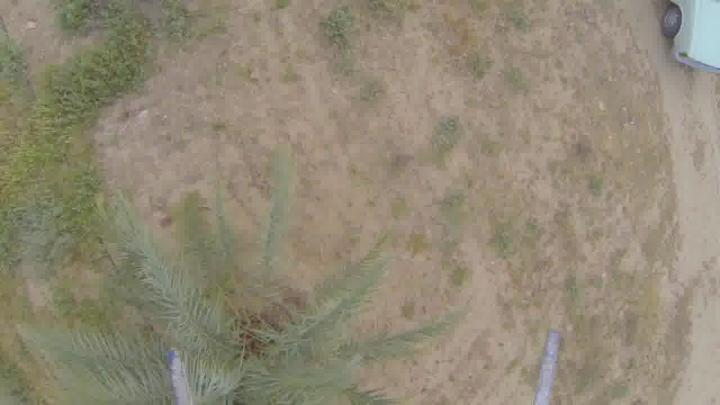Date-Palm-Crown: (121, 271, 334, 405)
